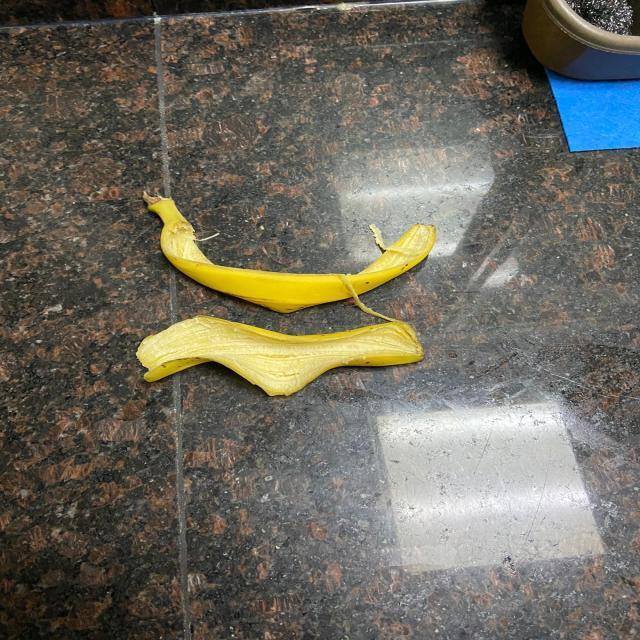Banana: (148, 192, 434, 307), (136, 322, 426, 398)
